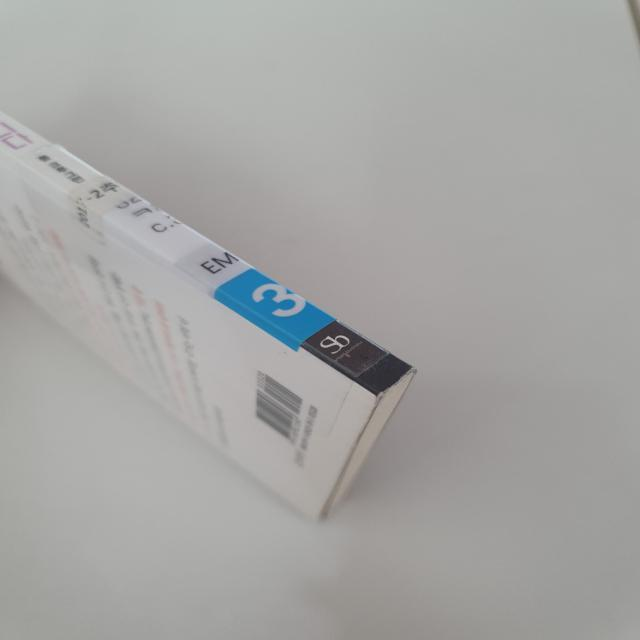Wornout: (370, 357, 420, 413)
